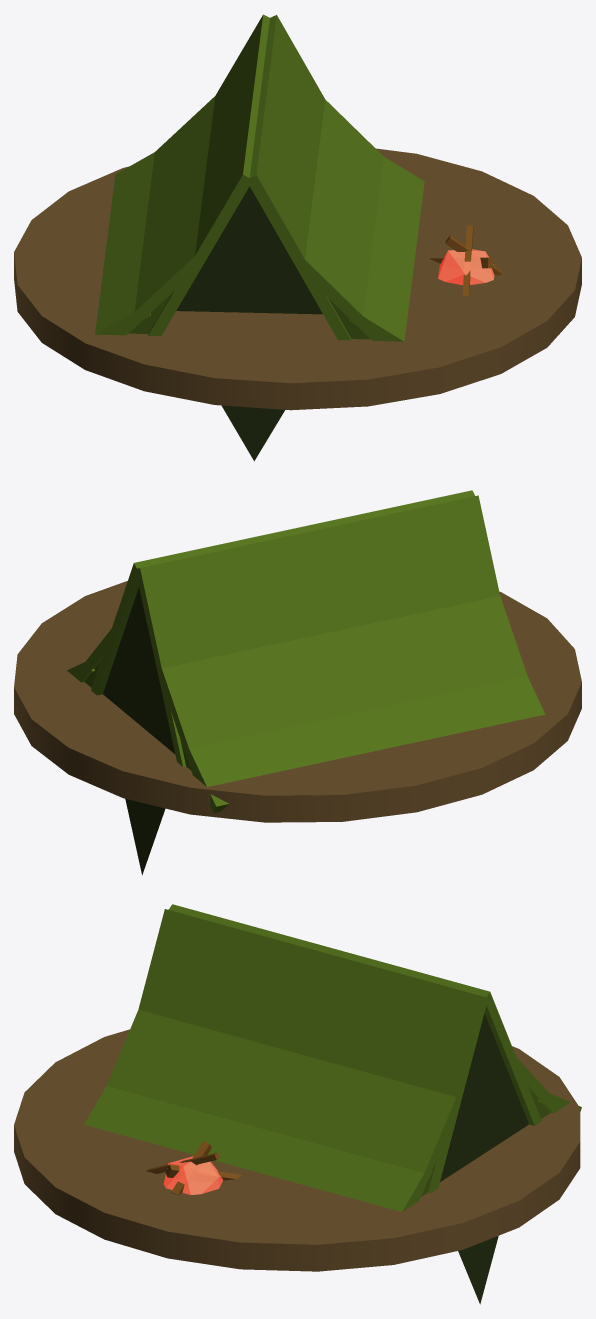
Rendered from tent.glb.
The picture shows the model from 3 angles, top to bottom: view 1: azimuth 30°, elevation 25°; view 2: azimuth 150°, elevation 25°; view 3: azimuth 270°, elevation 25°; orthographic projection.
Parts seen in each view (by area): view 1: Cylinder, Box (×6), Plane, Icosahedron; view 2: Box (×5), Cylinder, Plane; view 3: Box (×5), Cylinder, Plane, Icosahedron.
Boxes of the visible parts, left/top/right/bottom form: Cylinder: left=14, top=148, right=581, bottom=410; Box (×6): left=95, top=14, right=424, bottom=341; Plane: left=176, top=186, right=322, bottom=461; Icosahedron: left=438, top=249, right=494, bottom=285; Box (×5): left=76, top=490, right=545, bottom=813; Cylinder: left=14, top=581, right=581, bottom=822; Plane: left=103, top=587, right=174, bottom=875; Box (×5): left=84, top=904, right=560, bottom=1211; Cylinder: left=14, top=1029, right=580, bottom=1271; Plane: left=440, top=1013, right=528, bottom=1304; Icosahedron: left=163, top=1156, right=222, bottom=1194.
Bounding box in the file's own units: 0.9578 × 0.5804 × 0.9582.
